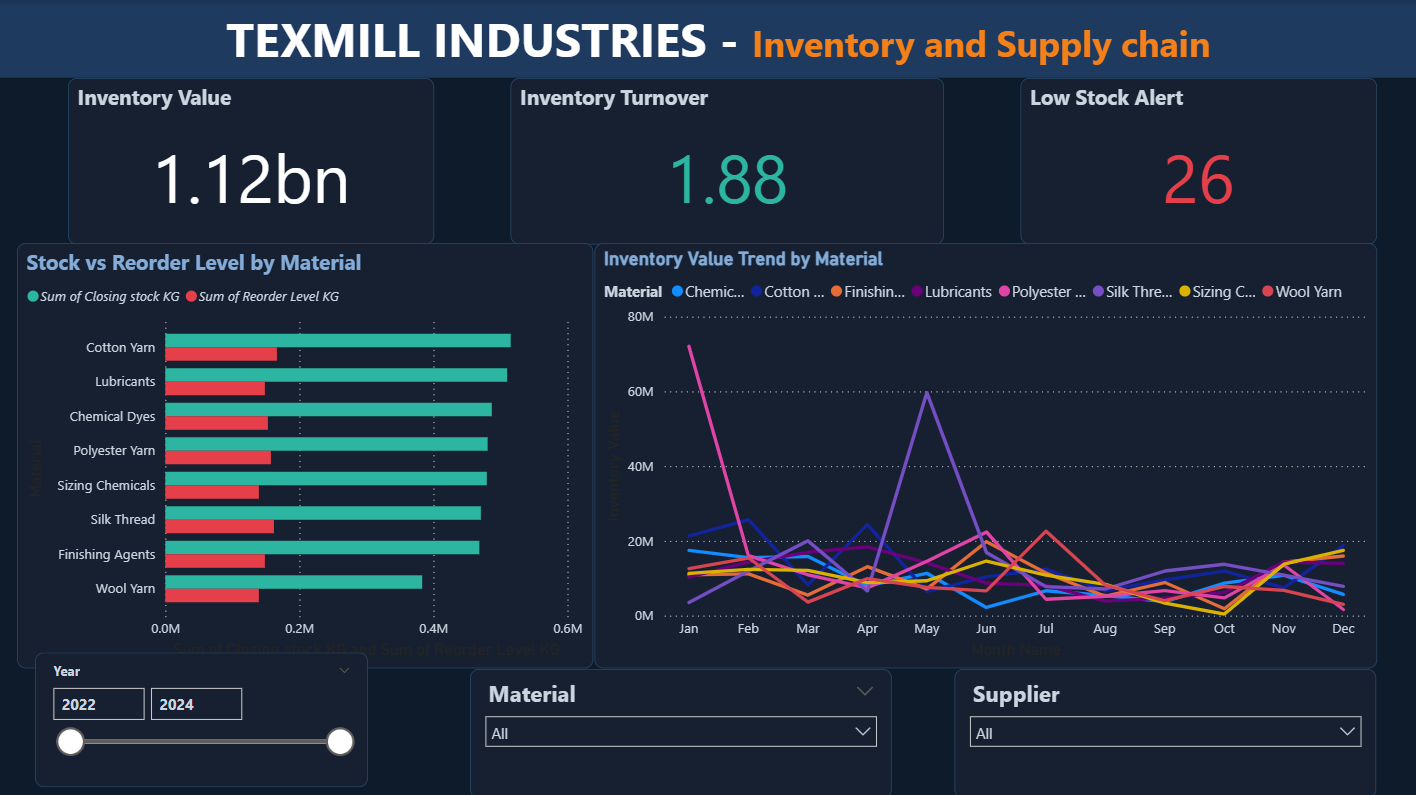

The page's visual inventory and layout, read from the dashboard file:
{"tool":"powerbi","page":{"name":"Inventory and Supply Chain","canvas":[1280,720],"ordinal":4},"visuals":[{"type":"textbox","box":[0,0,1279.5,69.7],"z":0},{"type":"card","title":"Inventory Value","fields":{"Values":["Inventory_Data.Inventory Value"]},"box":[62.1,69.7,330.1,149.9],"z":1},{"type":"card","title":"Inventory Turnover","fields":{"Values":["_Measure.Inventory Turnover"]},"box":[460.3,69.7,390.7,149.9],"z":2},{"type":"card","title":"Low Stock Alert","fields":{"Values":["_Measure.Low Stock Alert"]},"box":[920.6,69.7,321,149.9],"z":3},{"type":"clusteredBarChart","title":"Stock vs Reorder Level by Material","fields":{"Category":["Inventory_Data.Material"],"Y":["Sum(Inventory_Data.Closing stock KG)","Sum(Inventory_Data.Reorder Level KG)"]},"box":[16.7,219.6,519.4,383.1],"z":4},{"type":"lineChart","title":"Inventory Value Trend by Material","fields":{"Category":["data Table.Month Name"],"Y":["Inventory_Data.Inventory Value"],"Series":["Inventory_Data.Material"]},"box":[536,219.6,705.6,383.1],"z":5},{"type":"slicer","fields":{"Values":["data Table.Year"]},"box":[31.8,587.5,299.8,121.1],"z":6},{"type":"slicer","fields":{"Values":["Inventory_Data.Material"]},"box":[424,602.7,380.1,116.6],"z":7},{"type":"slicer","fields":{"Values":["Inventory_Data.Supplier"]},"box":[861.6,602.7,380.1,116.6],"z":8}]}

Visuals, with their boxes in screenshot pixels (x1, y1, x2, y2), scaled from the page's 1280x720 canvas onto the 1416x795 screenshot:
textbox: [x1=0, y1=0, x2=1415, y2=77]
"Inventory Value" card: [x1=69, y1=77, x2=434, y2=242]
"Inventory Turnover" card: [x1=509, y1=77, x2=941, y2=242]
"Low Stock Alert" card: [x1=1018, y1=77, x2=1374, y2=242]
"Stock vs Reorder Level by Material" clusteredBarChart: [x1=18, y1=242, x2=593, y2=665]
"Inventory Value Trend by Material" lineChart: [x1=593, y1=242, x2=1374, y2=665]
slicer - data Table.Year: [x1=35, y1=649, x2=367, y2=782]
slicer - Inventory_Data.Material: [x1=469, y1=665, x2=890, y2=794]
slicer - Inventory_Data.Supplier: [x1=953, y1=665, x2=1374, y2=794]
